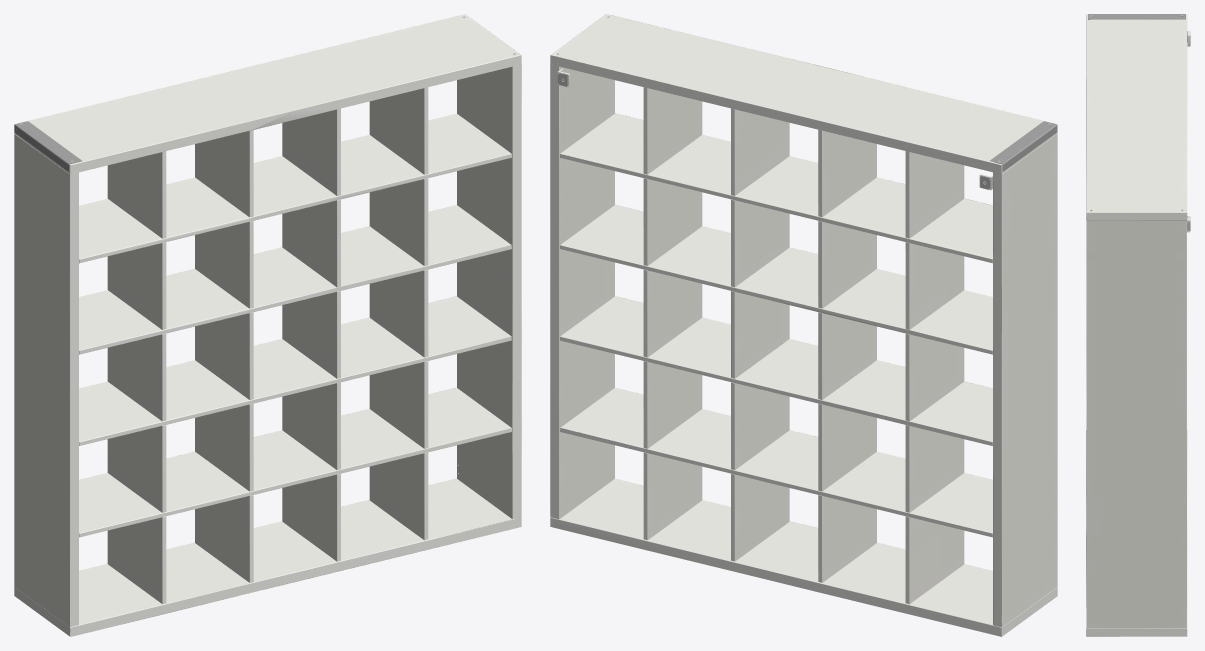
The model's file is kallax_rega_70301537.glb.
3 views of the same model, side by side, from view 1: azimuth 30°, elevation 25°; view 2: azimuth 150°, elevation 25°; view 3: azimuth 270°, elevation 25° (orthographic). The views are drawn at different scales.
Visible parts, largest first — view 1: kallax_rega_70301537; view 2: kallax_rega_70301537; view 3: kallax_rega_70301537.
Boxes of the visible parts, left/top/right/bottom form: kallax_rega_70301537: left=14, top=14, right=521, bottom=636; kallax_rega_70301537: left=550, top=14, right=1057, bottom=636; kallax_rega_70301537: left=1086, top=14, right=1190, bottom=636.
Size of the model in its own units: 1.82 by 1.82 by 0.4051.
Materials: 1 (1 with a texture image).
